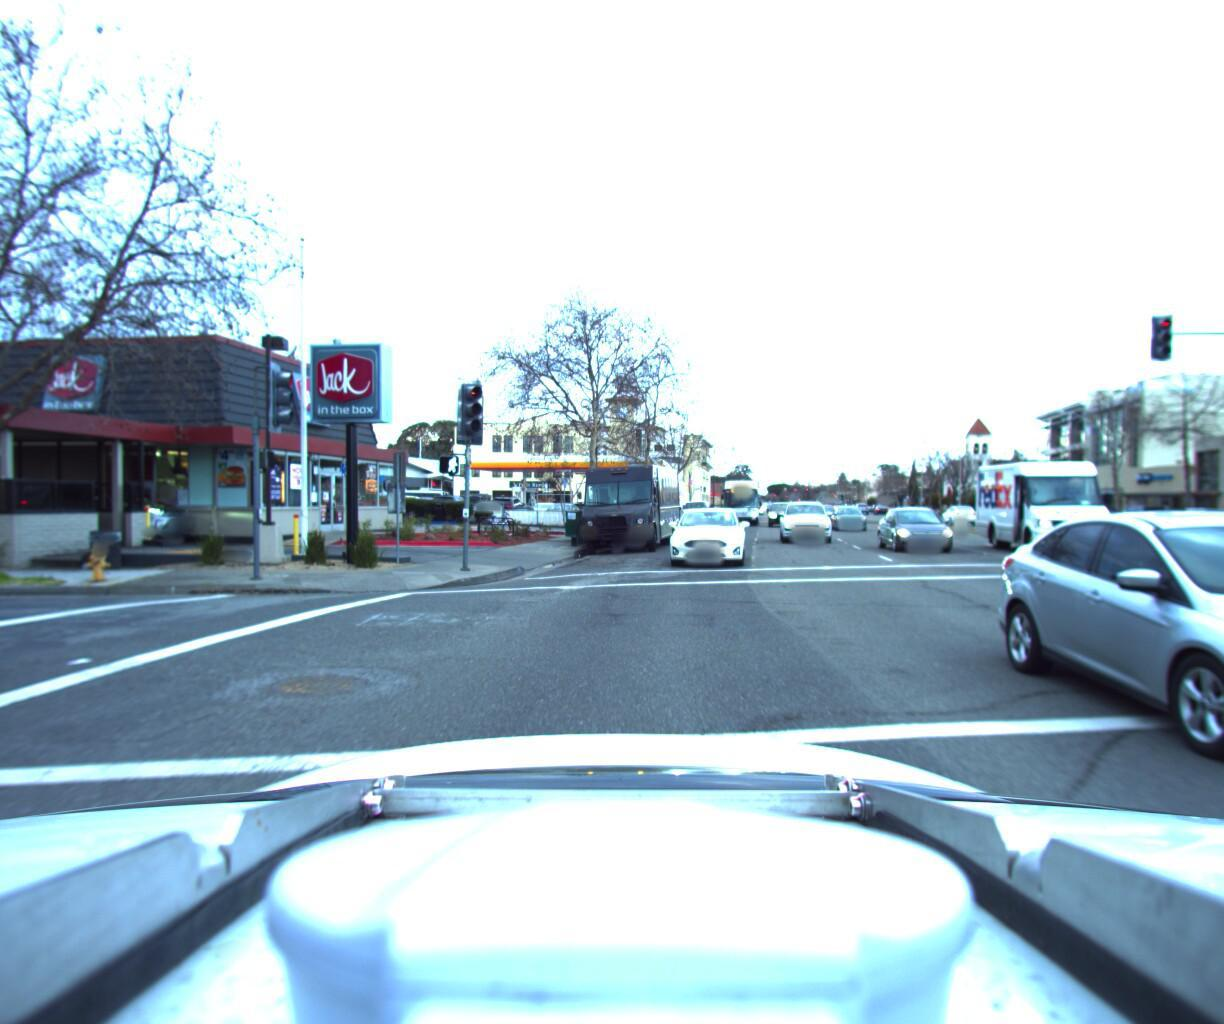bicycle: (472, 503, 523, 532)
bus: (716, 469, 760, 520)
car: (1007, 504, 1224, 888), (30, 481, 202, 544), (659, 498, 749, 569), (876, 501, 973, 554), (779, 493, 837, 545), (1152, 499, 1224, 534), (1104, 497, 1172, 527), (1161, 502, 1224, 533), (0, 529, 5, 863), (1066, 496, 1120, 523), (426, 487, 476, 516), (1196, 504, 1224, 549), (831, 498, 870, 526), (467, 494, 506, 518), (679, 491, 713, 518), (935, 499, 977, 519)
truck: (966, 447, 1131, 552), (565, 453, 685, 548)
